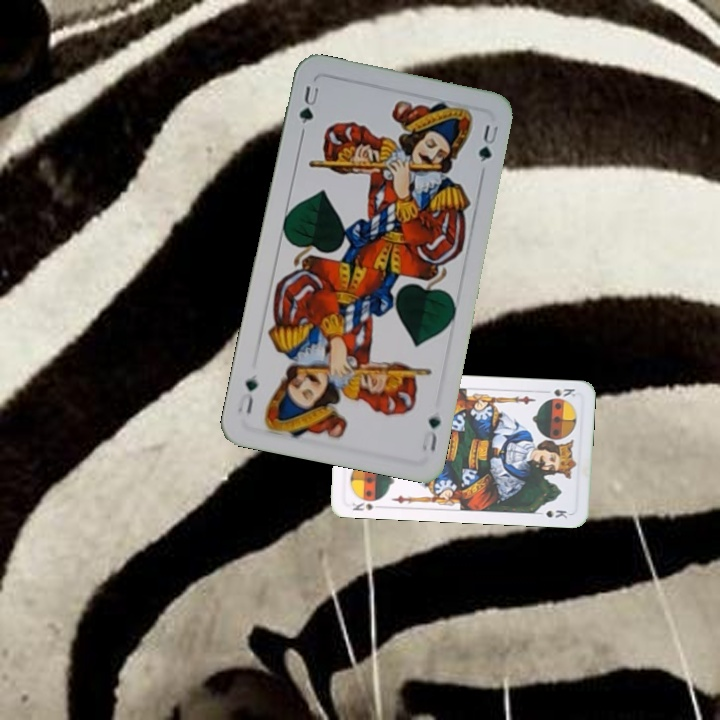GU: (295, 80, 321, 126), (417, 412, 444, 454)
SK: (348, 494, 384, 514), (545, 384, 579, 402)
